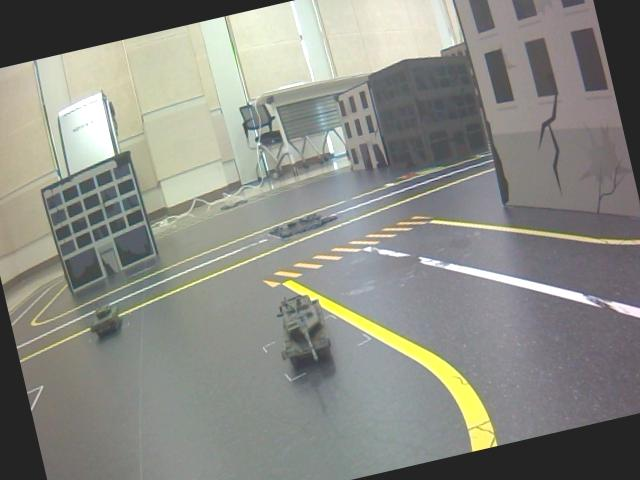Tank: (267, 285, 334, 368), (85, 298, 124, 338)
